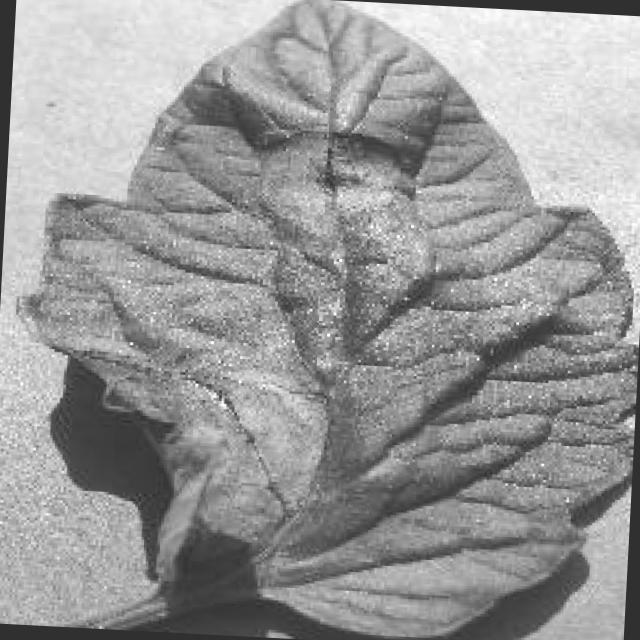leaf blight: (23, 0, 640, 640)
